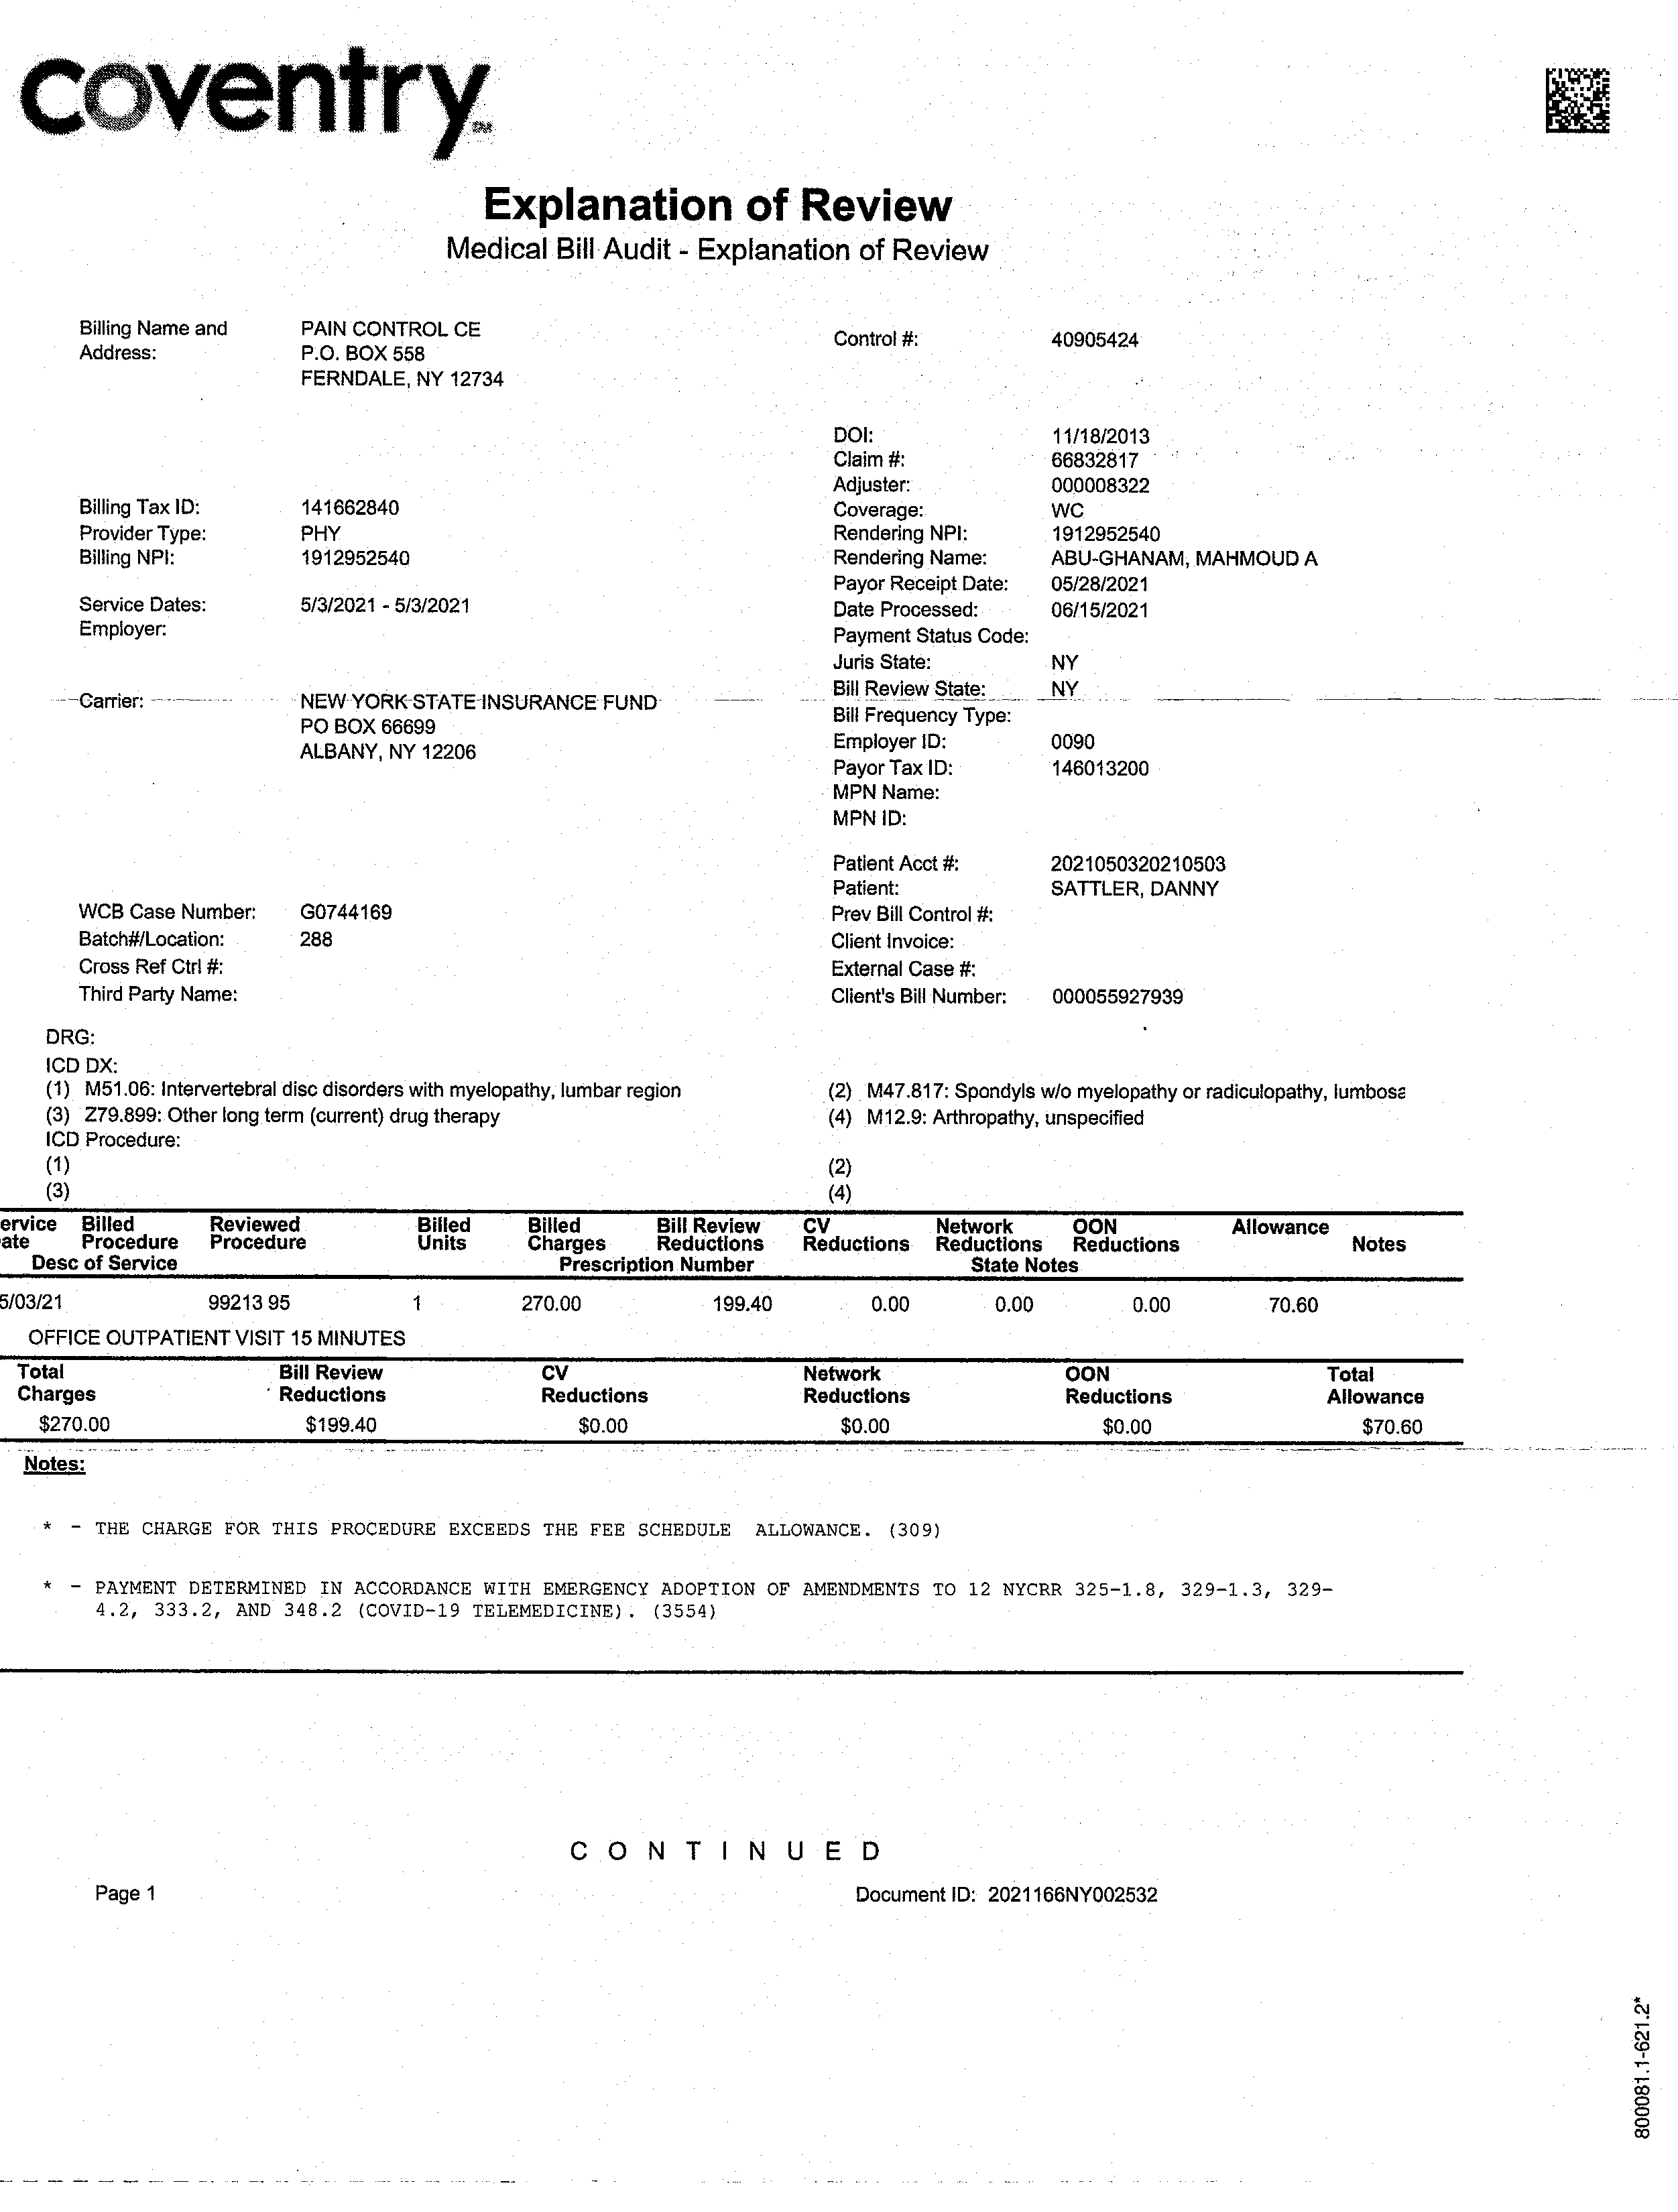data: (816, 405, 1357, 1033), (67, 680, 666, 821), (67, 485, 523, 654), (56, 874, 455, 1028), (72, 291, 550, 414)
table: (0, 1195, 1470, 1461)
